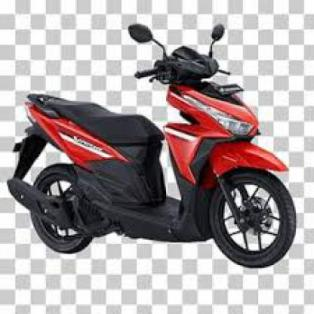Motocicleta: (7, 22, 294, 272)
